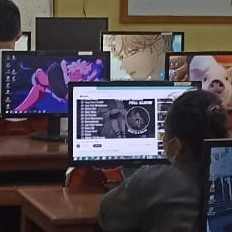monitor: (67, 81, 203, 168), (1, 50, 111, 140), (100, 31, 184, 82), (164, 51, 232, 110), (198, 138, 231, 230), (35, 17, 109, 52)
